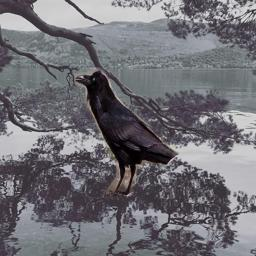Crow: (74, 66, 180, 196)
